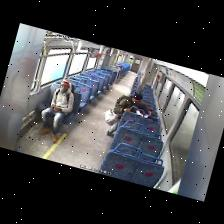person: (40, 79, 74, 143), (107, 94, 150, 135)
